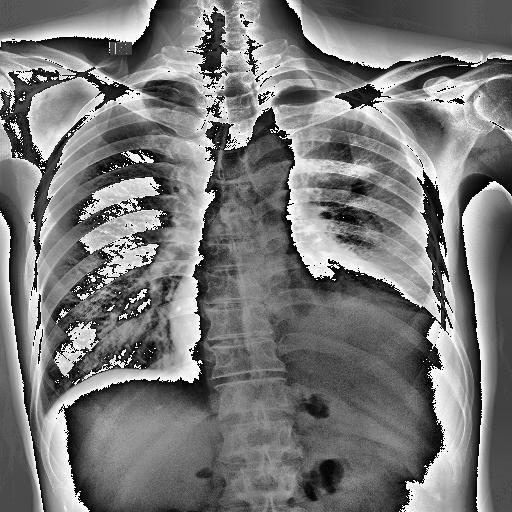3- Cardiomegaly: (166, 292, 438, 402), (161, 292, 452, 386)
4- Consolidation: (286, 236, 424, 296)
7- Lung Opacity: (328, 257, 450, 328), (308, 158, 396, 189)
9- Other lesion: (274, 298, 474, 402)
